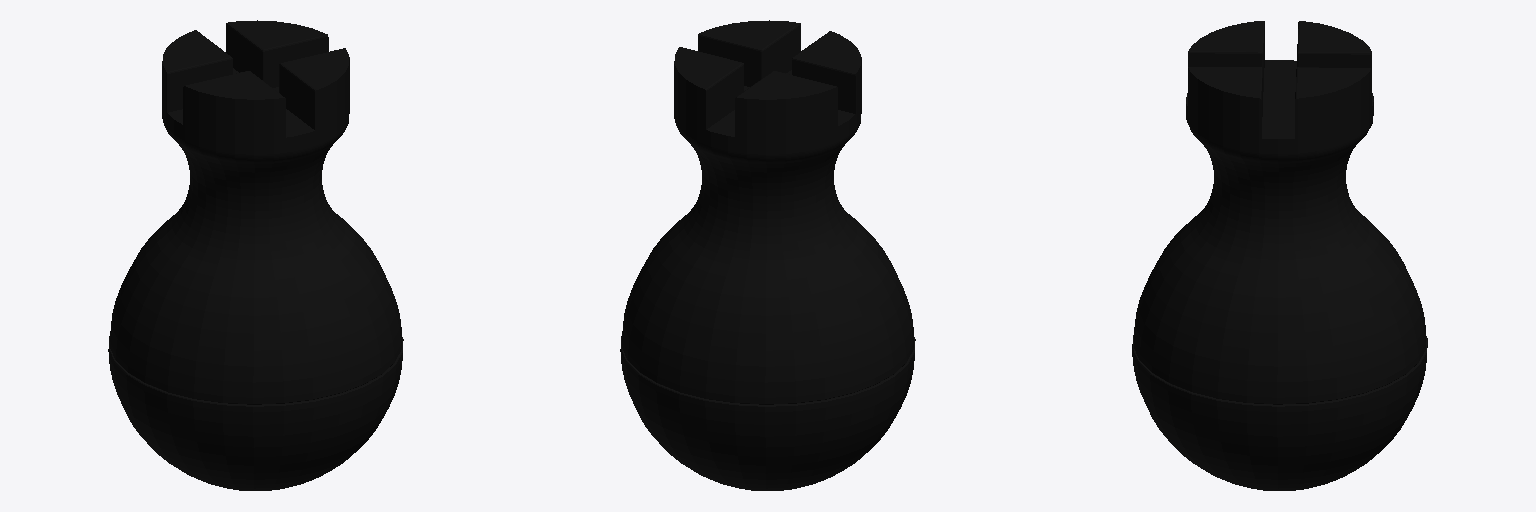
The robot description file, URDF, robot "rook_b":
<?xml version="1.0"?>
<robot name="rook_b">
  <link name="base_link">
    <visual>
      <origin xyz="0 0 0" rpy="0 0 0"/>
      <geometry>
        <mesh filename="./meshes/Rook.stl" scale="0.003 0.003 0.003"/>
      </geometry>
      <material name="piece_material">
        <color rgba="0.1 0.1 0.1 1.0"/>
      </material>
    </visual>
    <collision>
      <origin xyz="0 0 0.025" rpy="0 0 0"/>
      <geometry>
        <cylinder radius="0.012" length="0.05"/>
      </geometry>
    </collision>
    <inertial>
      <origin xyz="0 0 0.025" rpy="0 0 0"/>
      <mass value="0.04"/> <!-- 40 grams, or adjust -->
      <inertia
        ixx="0.00005" ixy="0.0" ixz="0.0"
        iyy="0.00005" iyz="0.0"
        izz="0.00001"/>
    </inertial>
  </link>
</robot>

--- Render facts (derived) ---
Views: 3 orthographic renders of the robot side by side, from view 1: azimuth 30°, elevation 25°; view 2: azimuth 150°, elevation 25°; view 3: azimuth 270°, elevation 25°.
Model rook_b with 1 links and 0 joints (none), rooted at base_link, posed every joint at zero.
Links seen in each view (by area): view 1: base_link; view 2: base_link; view 3: base_link.
Link boxes in pixels (bbox=[...]): base_link: bbox=[108, 20, 403, 490]; base_link: bbox=[620, 20, 915, 490]; base_link: bbox=[1132, 21, 1427, 490].
Bounding box of the posed robot: 0.0524 × 0.0522 × 0.0816 m (x, y, z).
1 mesh visuals loaded from 1 distinct referenced files (1 binary STL).